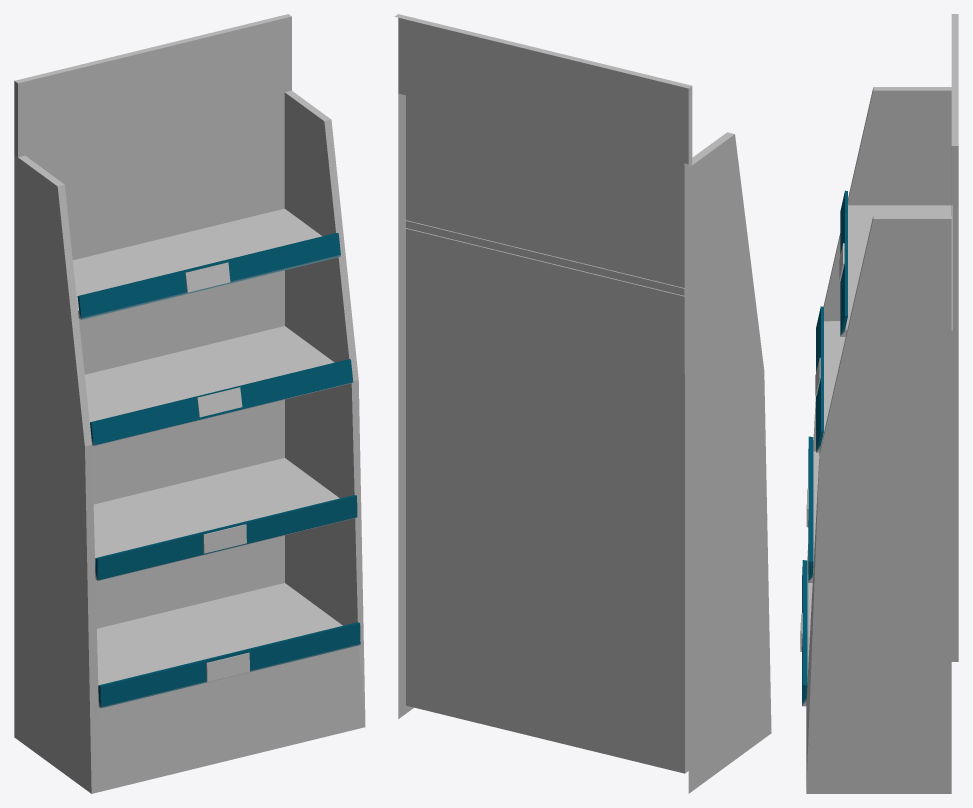
Rendered from SmallRacks.fbx.
3 renders of one model, left to right at view 1: azimuth 30°, elevation 25°; view 2: azimuth 150°, elevation 25°; view 3: azimuth 270°, elevation 25°, orthographic. The views are drawn at different scales.
Visible parts, largest first — view 1: SmallRacks; view 2: SmallRacks; view 3: SmallRacks.
Part boxes in pixels (<box>): SmallRacks: <box>14,14,365,793</box>; SmallRacks: <box>394,14,771,793</box>; SmallRacks: <box>800,14,958,793</box>.
Size of the model in its own units: 79.14 by 181 by 40.07.
